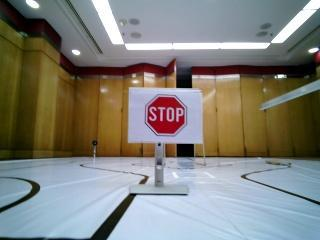stop: (133, 91, 187, 139)
